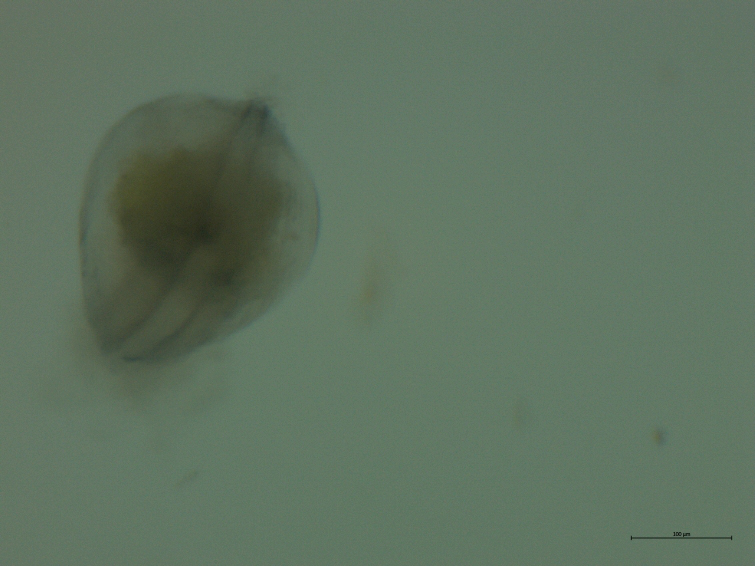oyster: (64, 78, 332, 380)
